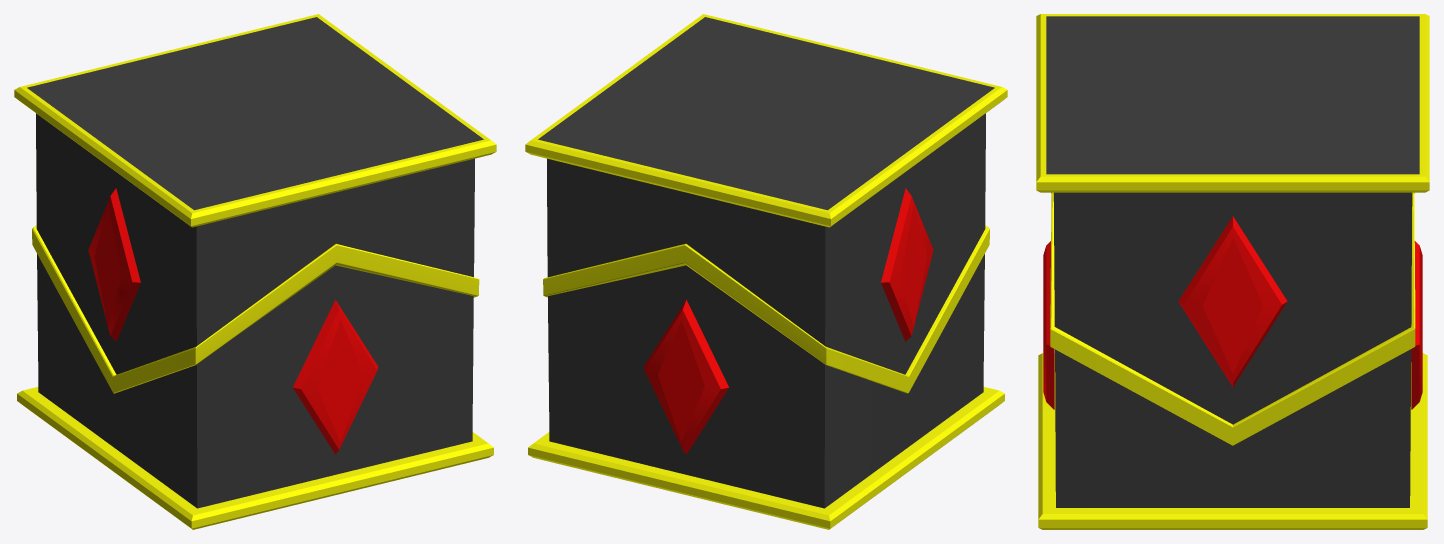
File: pillar-3.obj
3 renders of one model, left to right at view 1: azimuth 30°, elevation 25°; view 2: azimuth 150°, elevation 25°; view 3: azimuth 270°, elevation 25°, orthographic. The views are drawn at different scales.
Parts seen in each view (by area): view 1: cube_3; view 2: cube_3; view 3: cube_3.
Part boxes in pixels (<box>): cube_3: <box>14,14,496,529</box>; cube_3: <box>525,14,1007,529</box>; cube_3: <box>1036,14,1429,529</box>.
Size of the model in its own units: 1.05 by 1.05 by 1.05.
